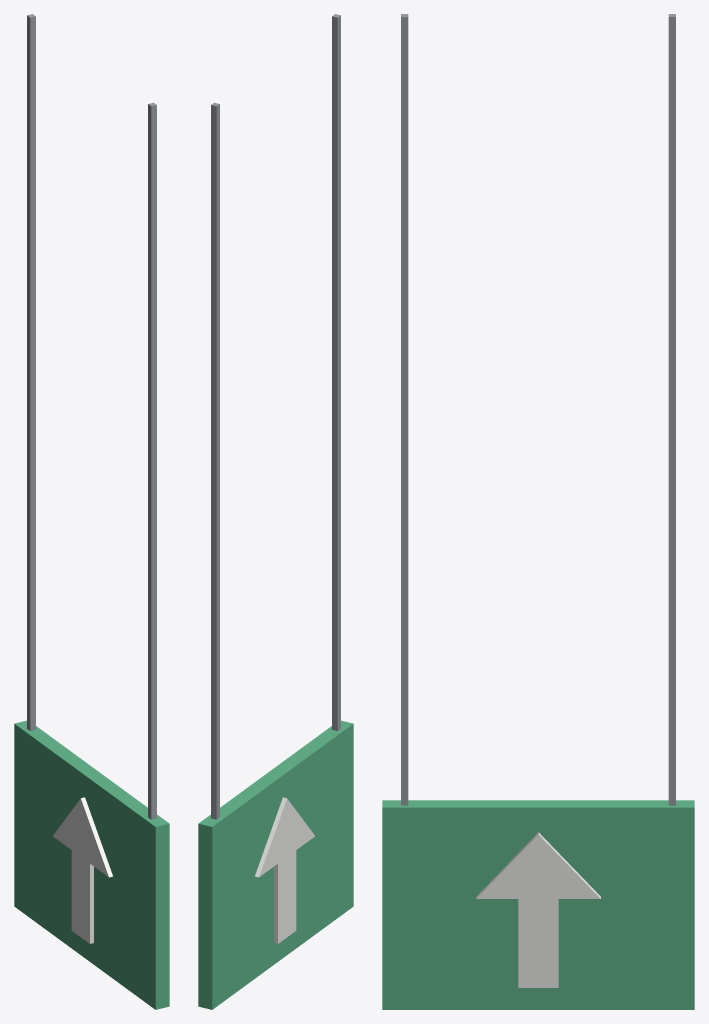
The model's file is seta_corredor.fbx.
3 renders of one model, left to right at view 1: azimuth 30°, elevation 25°; view 2: azimuth 150°, elevation 25°; view 3: azimuth 270°, elevation 25°, orthographic. The views are drawn at different scales.
Parts seen in each view (by area): view 1: seta_corredor; view 2: seta_corredor; view 3: seta_corredor.
Boxes of the visible parts, bbox=[...] form: seta_corredor: bbox=[14, 14, 169, 1009]; seta_corredor: bbox=[198, 14, 353, 1009]; seta_corredor: bbox=[382, 14, 694, 1009].
Bounding box in the file's own units: 6.4 × 245 × 70.
